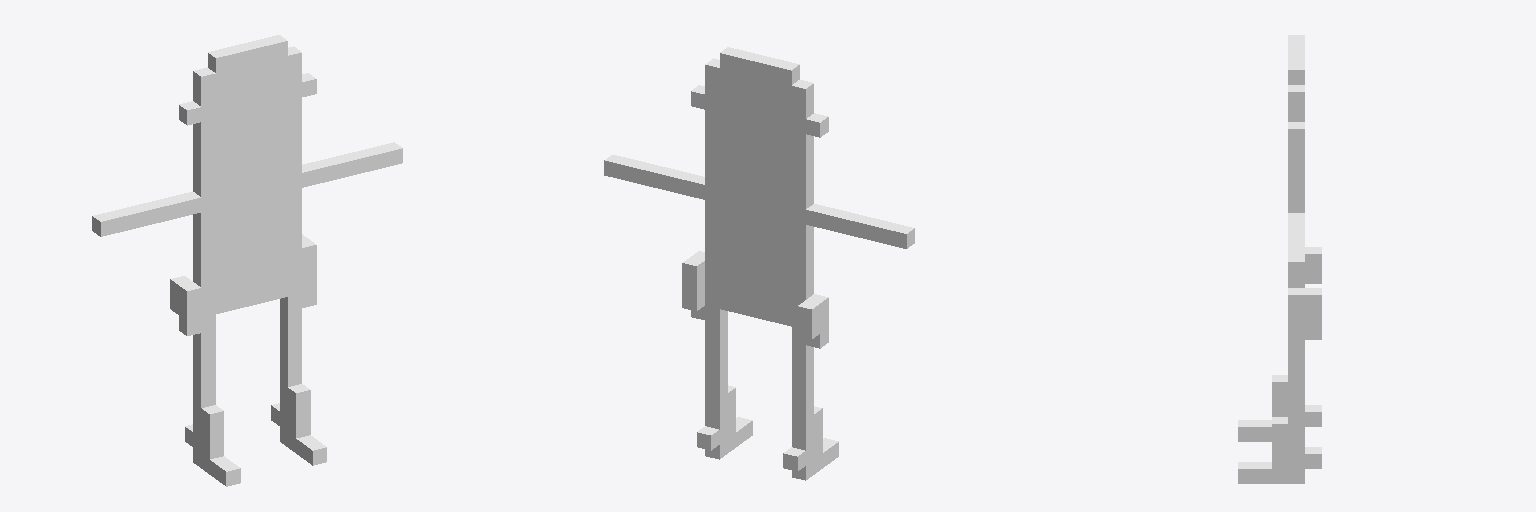
Rendered from banker_v1.obj.
3 views of the same model, side by side, from view 1: azimuth 30°, elevation 25°; view 2: azimuth 150°, elevation 25°; view 3: azimuth 270°, elevation 25° (orthographic).
Visible parts, largest first — view 1: banker_v1; view 2: banker_v1; view 3: banker_v1.
Boxes of the visible parts, x1=… form: banker_v1: x1=92, y1=35, x2=402, y2=486; banker_v1: x1=604, y1=47, x2=914, y2=480; banker_v1: x1=1238, y1=35, x2=1321, y2=483.
Bounding box in the file's own units: 21 × 27 × 5.